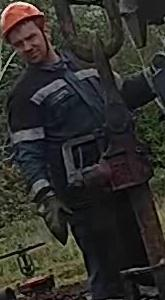gloves: (32, 186, 73, 245)
helmet: (0, 1, 44, 44)
vest: (9, 56, 106, 202)
